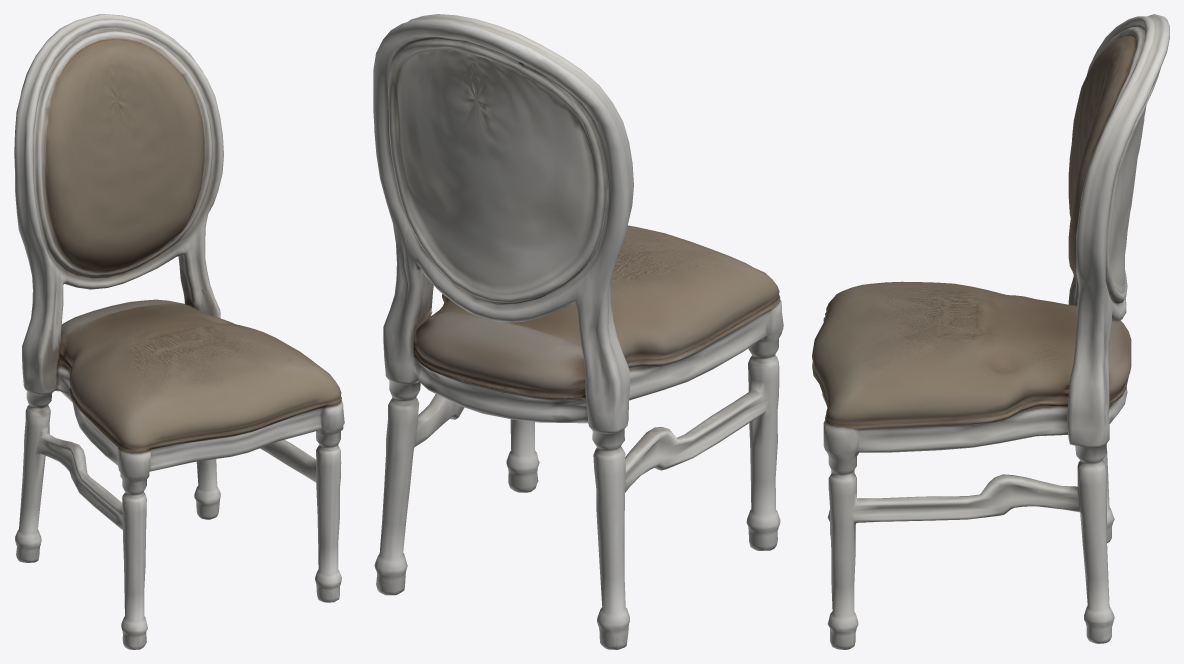
The model's file is Chair_Louis_XVI_Resi_0320031720_texture.glb.
3 views of the same model, side by side, from view 1: azimuth 30°, elevation 25°; view 2: azimuth 150°, elevation 25°; view 3: azimuth 270°, elevation 25° (orthographic). The views are drawn at different scales.
Parts seen in each view (by area): view 1: Mesh_0.001; view 2: Mesh_0.001; view 3: Mesh_0.001.
Part boxes in pixels (box(x1,y1,x2,y2)): Mesh_0.001: box(14, 14, 344, 649); Mesh_0.001: box(373, 14, 783, 649); Mesh_0.001: box(812, 14, 1169, 649).
Size of the model in its own units: 0.4225 by 0.9144 by 0.5239.
Materials: 1 (1 with a texture image).
